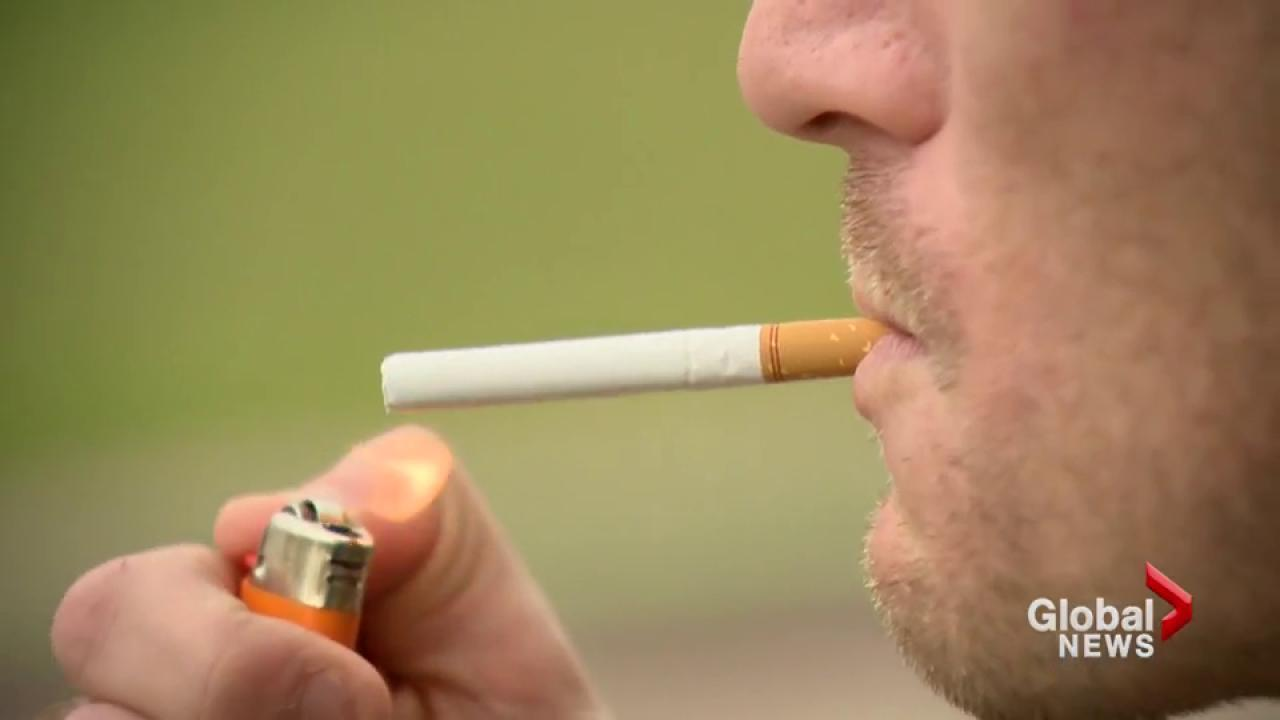smoke: (382, 313, 920, 413)
